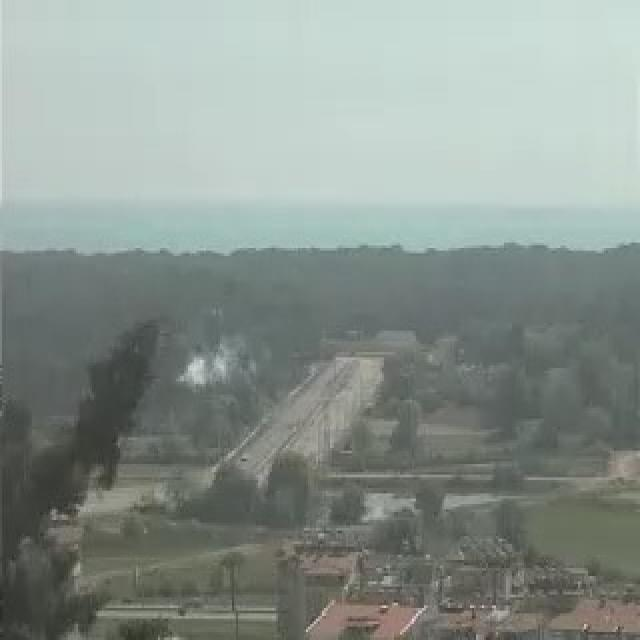smoke: (180, 346, 234, 390)
